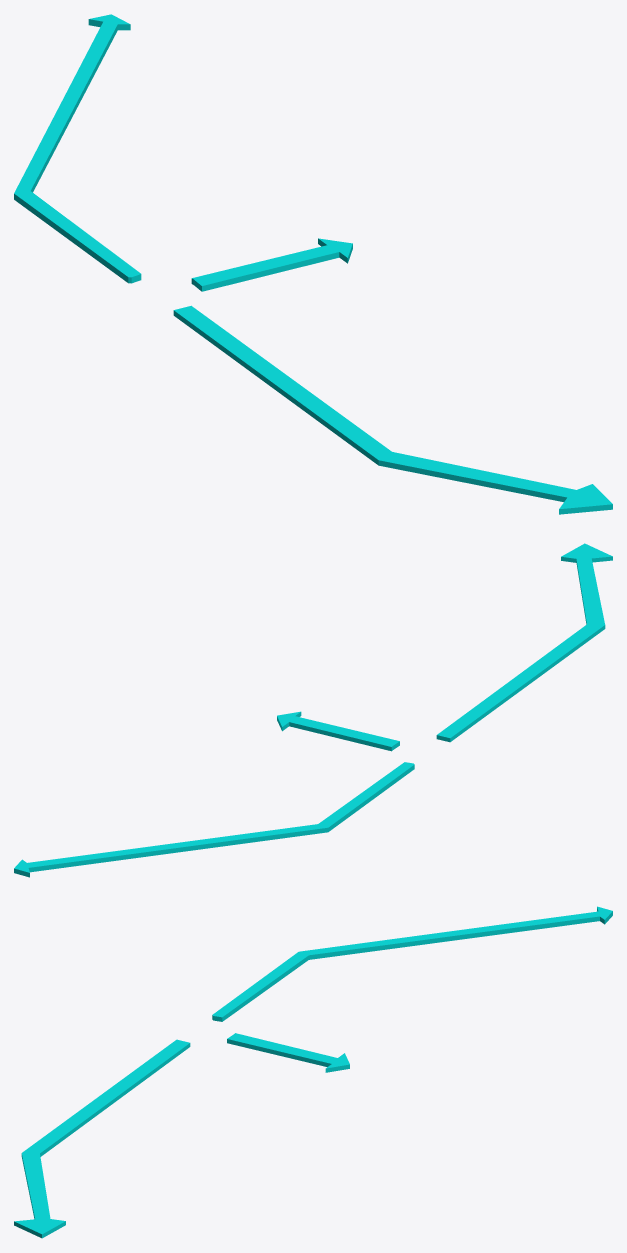
Rendered from arrows_for_floor_roads.fbx.
3 views of the same model, one above another, from view 1: azimuth 30°, elevation 25°; view 2: azimuth 150°, elevation 25°; view 3: azimuth 330°, elevation 25° (orthographic). The views are drawn at different scales.
Visible parts, largest first — view 1: ARROW_RIGHT, ARROW_LEFT, ARROW_MIDDLE; view 2: ARROW_LEFT, ARROW_RIGHT, ARROW_MIDDLE; view 3: ARROW_LEFT, ARROW_RIGHT, ARROW_MIDDLE.
Boxes of the visible parts, <box> form: ARROW_RIGHT: <box>173,305,612,514</box>; ARROW_LEFT: <box>14,14,141,283</box>; ARROW_MIDDLE: <box>191,238,352,291</box>; ARROW_LEFT: <box>14,762,414,877</box>; ARROW_RIGHT: <box>436,543,612,742</box>; ARROW_MIDDLE: <box>277,711,399,751</box>; ARROW_LEFT: <box>212,906,612,1021</box>; ARROW_RIGHT: <box>14,1039,190,1238</box>; ARROW_MIDDLE: <box>227,1033,349,1072</box>.
Size of the model in its own units: 4.41 by 0.1158 by 18.35.
